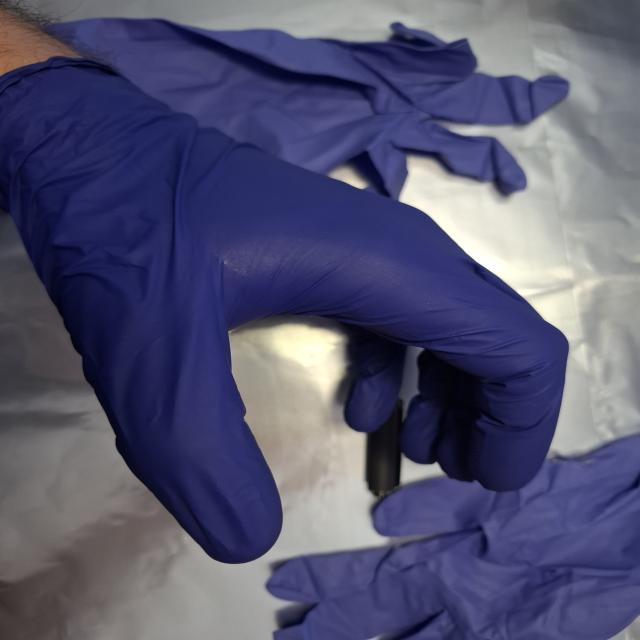glove_on: (0, 56, 575, 567)
